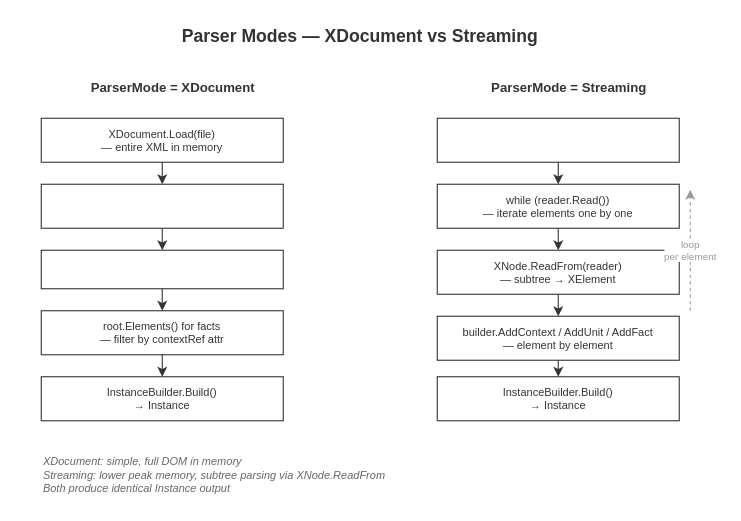
Some shapes in this 741 by 521 pixel diagram are drawn without their labels. Here are the shapes that lost their labels. From the top down, the centre of each, then its label:
At [557,139]: "XmlReader.Create(file) — forward-only stream".
At [161,205]: "root.Elements(xbrli:context) — LINQ query over DOM".
At [161,269]: "root.Elements(xbrli:unit)".
